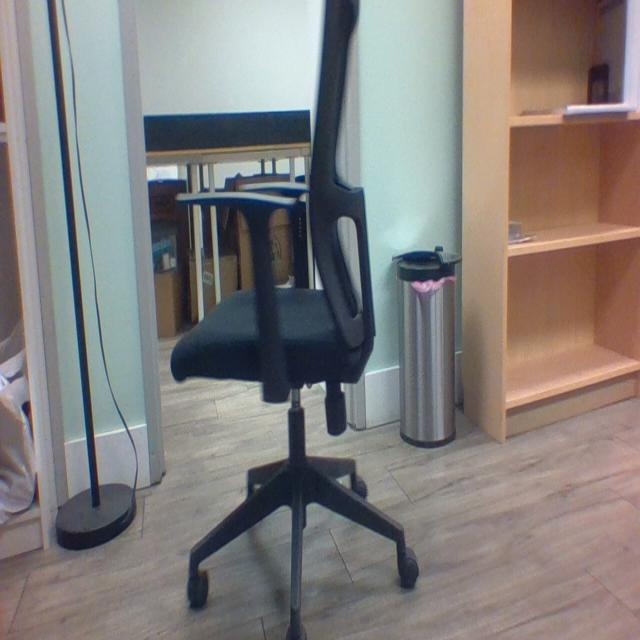chair: (170, 4, 420, 640)
